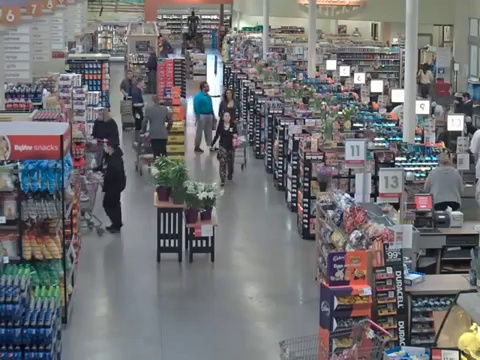face: (102, 142, 112, 153), (223, 113, 231, 122), (224, 91, 233, 99), (202, 84, 210, 92), (127, 70, 133, 80), (97, 112, 104, 120)
